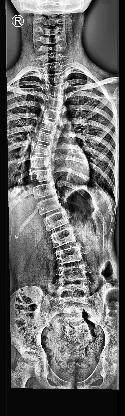Vertebrae: (55, 250, 83, 262), (58, 268, 86, 280), (37, 198, 60, 212), (43, 214, 67, 226), (51, 231, 75, 243), (32, 185, 54, 197), (30, 156, 50, 168), (31, 170, 51, 182), (46, 84, 64, 96), (32, 144, 52, 154), (40, 119, 58, 130), (44, 108, 60, 120), (44, 63, 62, 73), (44, 74, 64, 83), (46, 96, 64, 106), (36, 132, 54, 142)
